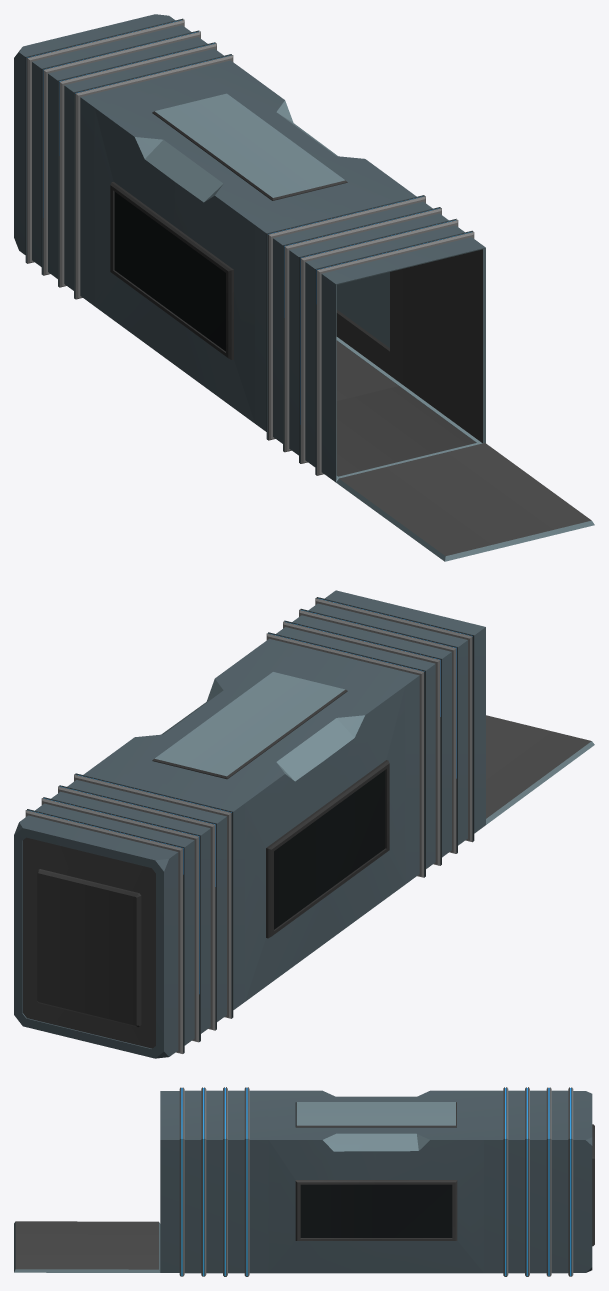
File: Futuristic Shipping Container Open.fbx
3 views of the same model, one above another, from view 1: azimuth 30°, elevation 25°; view 2: azimuth 150°, elevation 25°; view 3: azimuth 270°, elevation 25° (orthographic). The views are drawn at different scales.
Parts seen in each view (by area): view 1: Future Container Open; view 2: Future Container Open; view 3: Future Container Open.
Boxes of the visible parts, x1,y1,x2,y2 form: Future Container Open: (14,14,594,561); Future Container Open: (14,590,594,1058); Future Container Open: (14,1087,594,1276).
Size of the model in its own units: 1017 by 3874 by 833.
1 material, 1 textured.
